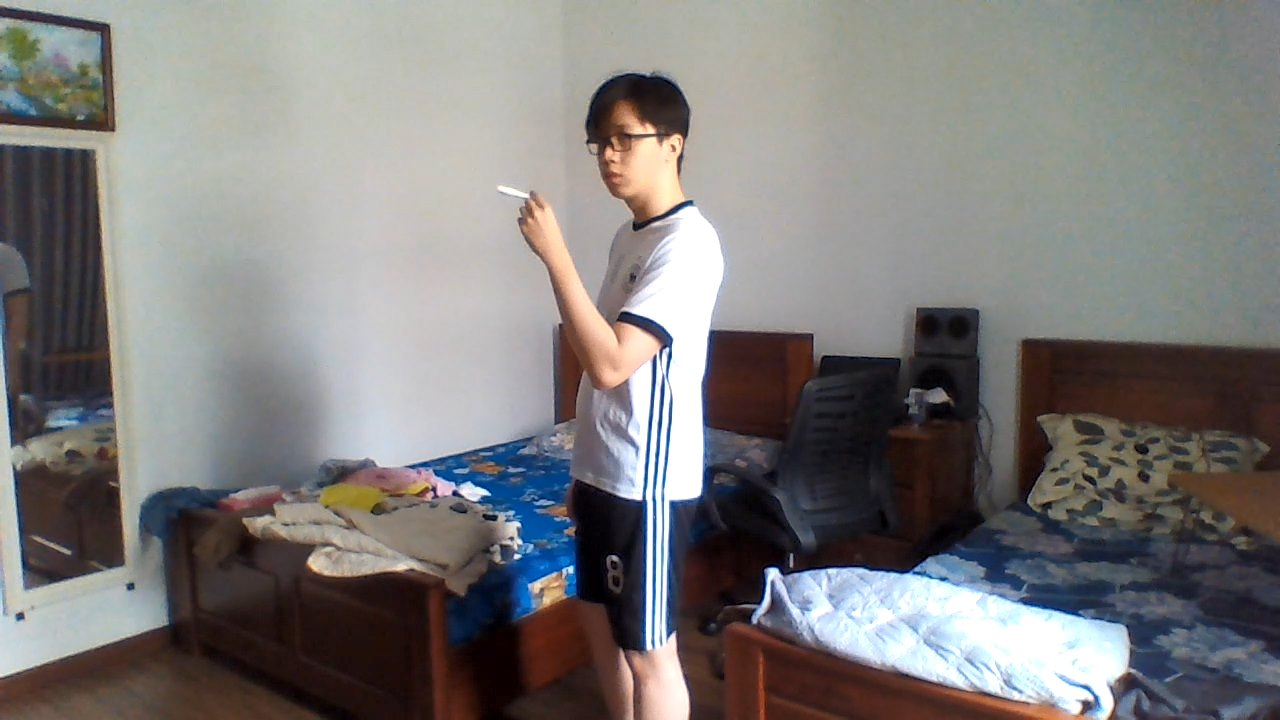cigarette: (499, 180, 534, 204)
person: (516, 70, 738, 720)
